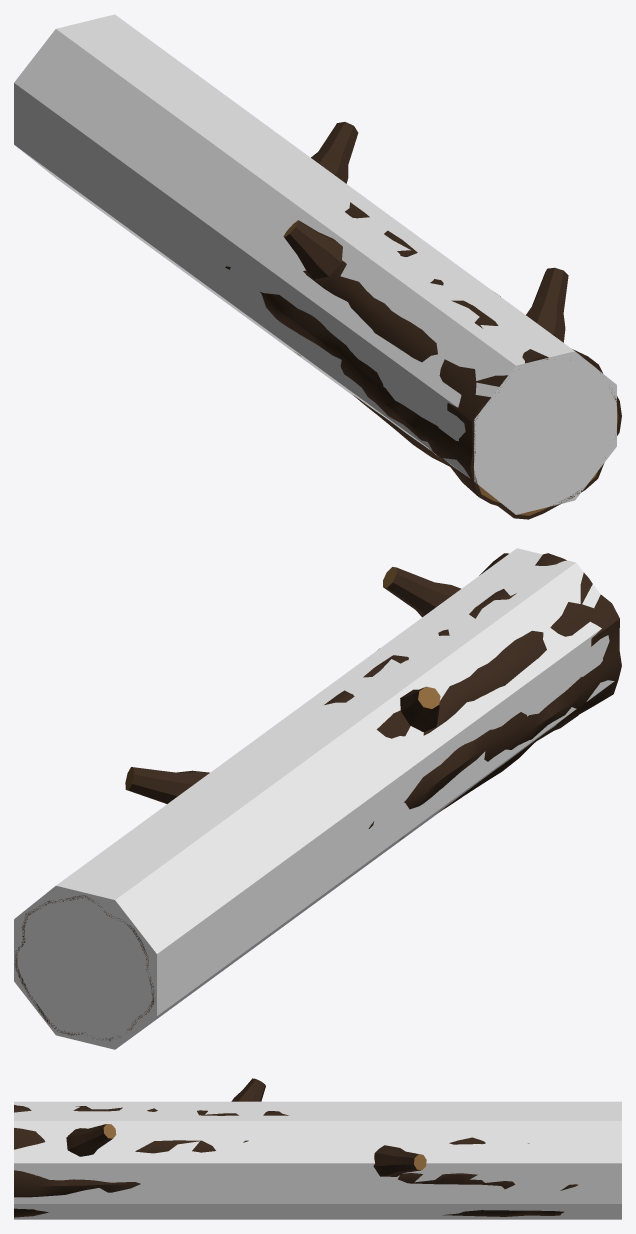
The model's file is Log_Short.fbx.
The picture shows the model from 3 angles, top to bottom: view 1: azimuth 30°, elevation 25°; view 2: azimuth 150°, elevation 25°; view 3: azimuth 270°, elevation 25°; orthographic projection. The views are drawn at different scales.
Parts seen in each view (by area): view 1: COL_Log_Short, Log_Short_Body; view 2: COL_Log_Short, Log_Short_Body; view 3: COL_Log_Short, Log_Short_Body.
Part boxes in pixels (x1,y1,x2,y2): COL_Log_Short: (14,14,616,514); Log_Short_Body: (225,122,621,519); COL_Log_Short: (14,548,614,1049); Log_Short_Body: (14,553,621,1041); COL_Log_Short: (14,1101,621,1219); Log_Short_Body: (14,1078,578,1217).
Bounding box in the file's own units: 0.5316 × 0.4668 × 2.2.
